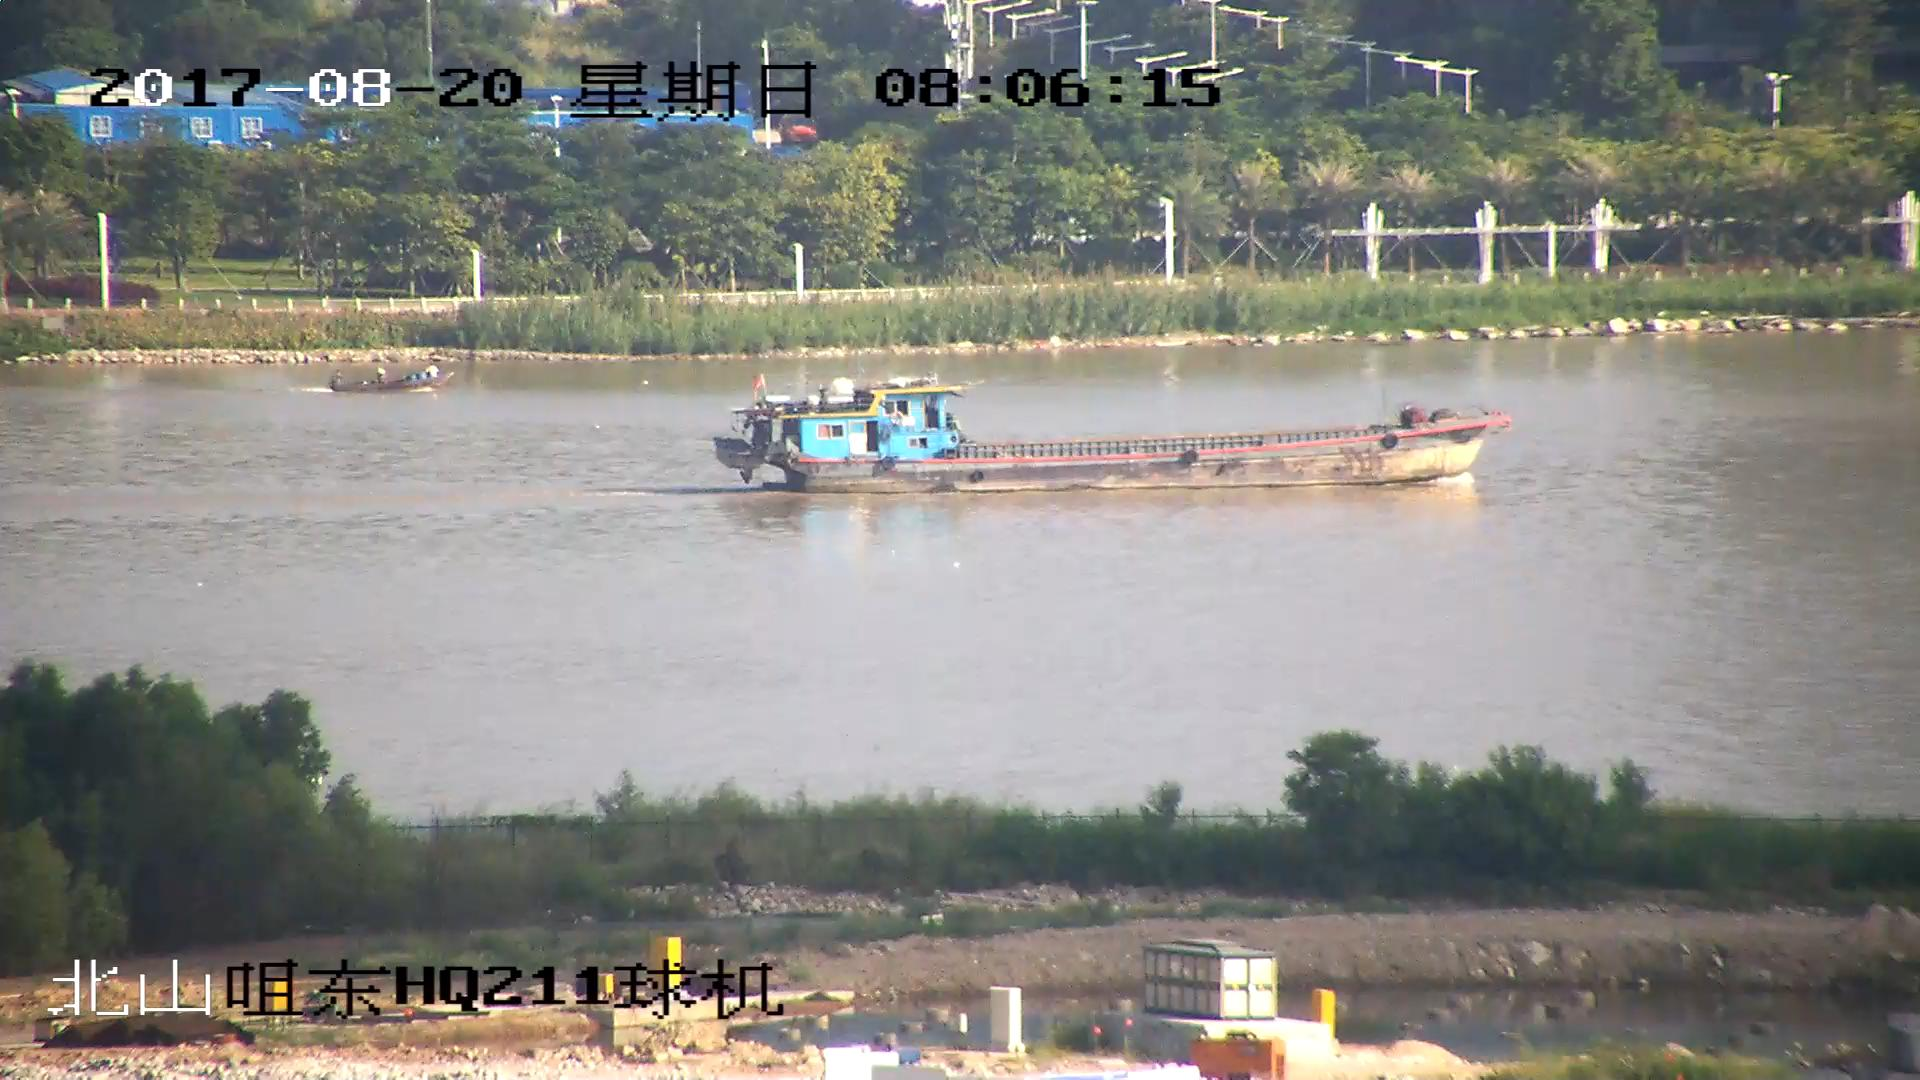fishing boat: (718, 380, 1501, 495), (329, 366, 442, 395)
